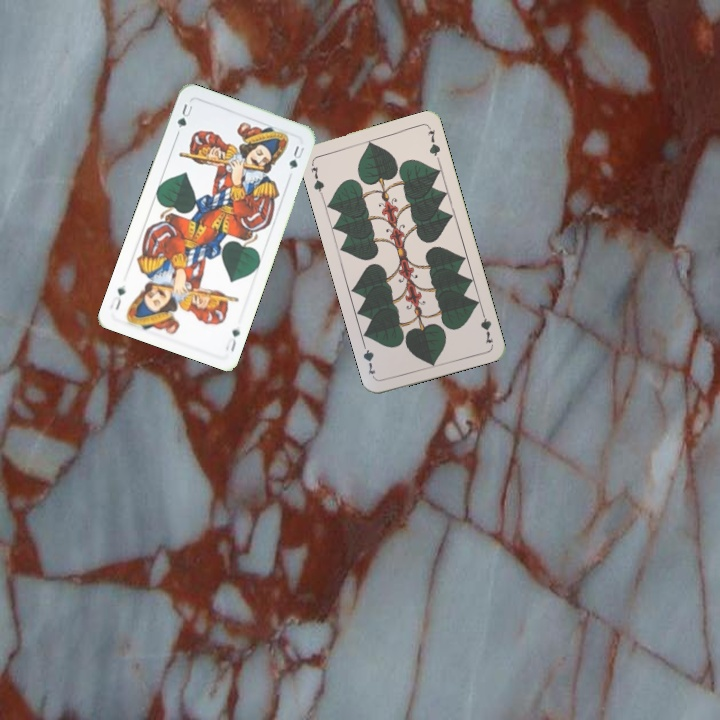G7: (476, 306, 496, 346), (307, 158, 327, 198)
GU: (173, 100, 196, 131), (221, 325, 243, 355)
